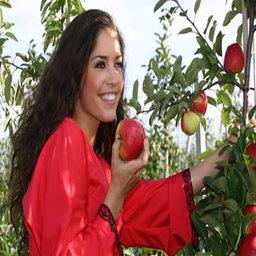apple: (115, 118, 145, 161), (224, 43, 244, 72), (179, 110, 201, 135), (190, 91, 207, 114)
